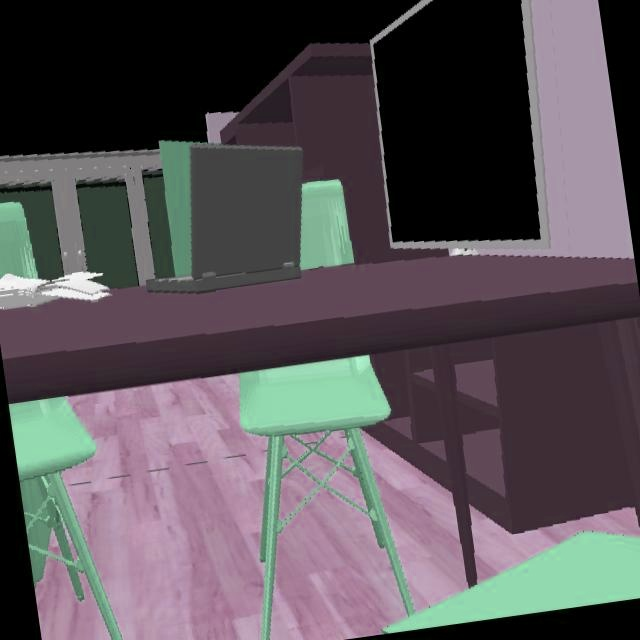book: (0, 267, 109, 311)
bookshelf: (446, 327, 630, 537), (219, 44, 392, 266), (368, 350, 450, 491)
chair: (238, 357, 640, 640), (9, 398, 126, 640), (299, 180, 356, 270), (0, 204, 39, 281)
laptop: (149, 144, 302, 294)
monitor: (370, 0, 544, 258)
table: (0, 257, 640, 404)
